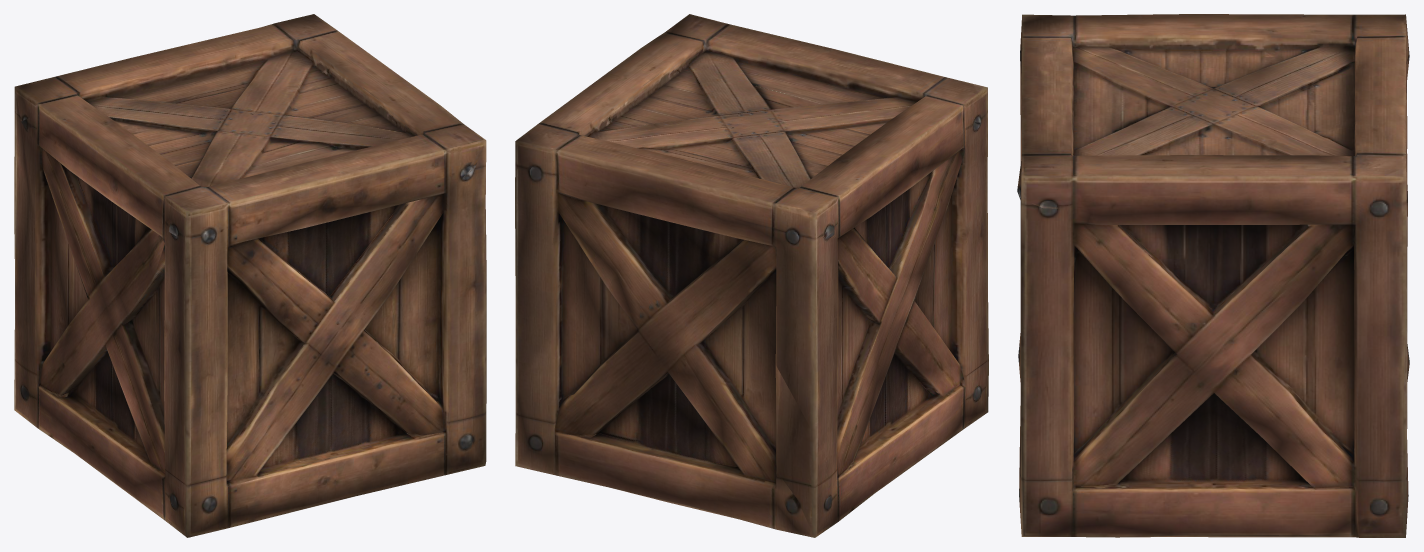
The model's file is Wooden_Crate_0922150158_texture.fbx.
3 renders of one model, left to right at view 1: azimuth 30°, elevation 25°; view 2: azimuth 150°, elevation 25°; view 3: azimuth 270°, elevation 25°, orthographic. The views are drawn at different scales.
Visible parts, largest first — view 1: Mesh1.0; view 2: Mesh1.0; view 3: Mesh1.0.
Part boxes in pixels (box(x1,y1,x2,y2)): Mesh1.0: box(14, 14, 486, 537); Mesh1.0: box(515, 14, 988, 537); Mesh1.0: box(1017, 14, 1409, 537).
Bounding box in the file's own units: 189 × 191 × 188.
1 material, 1 textured.
